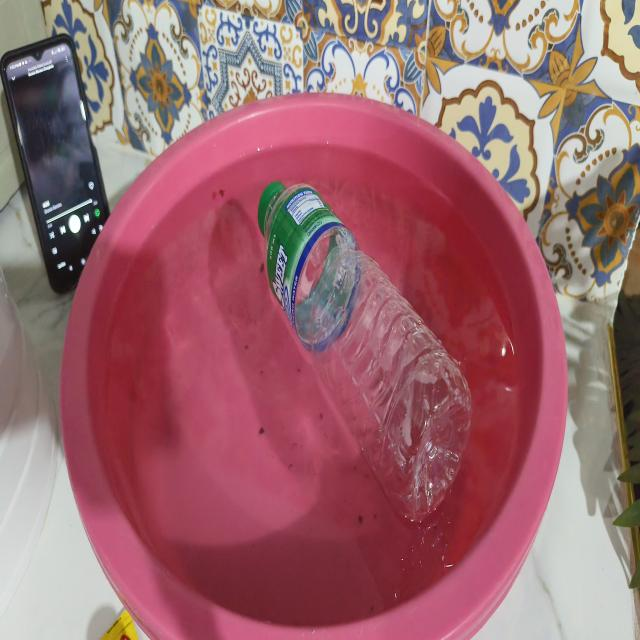Plastic Bottle: (258, 181, 472, 522)
